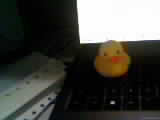duck: (89, 38, 131, 73)
